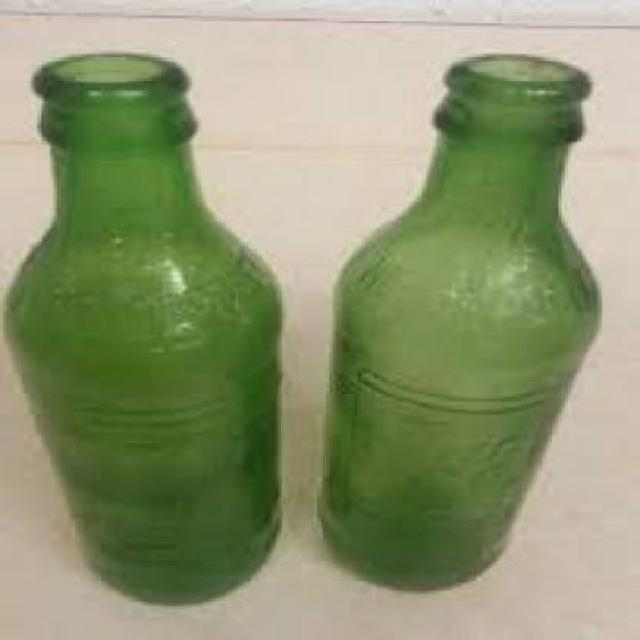GLASS: (313, 51, 596, 592), (2, 52, 276, 603)
